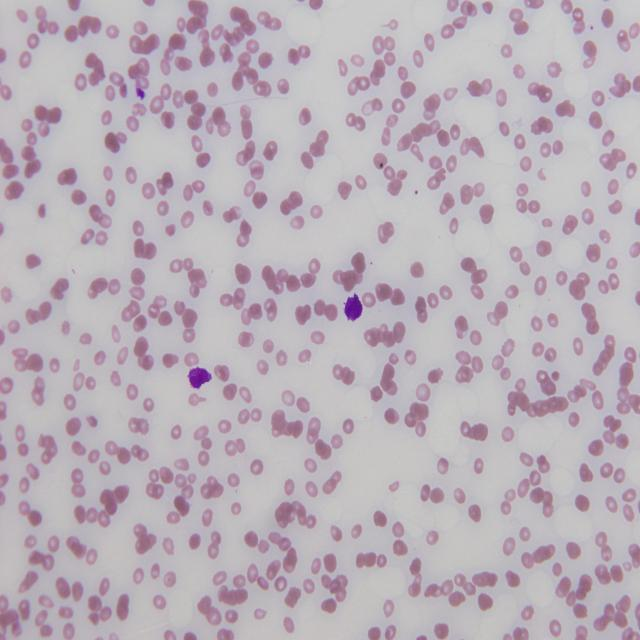cell: (188, 367, 211, 389), (344, 293, 362, 320)
